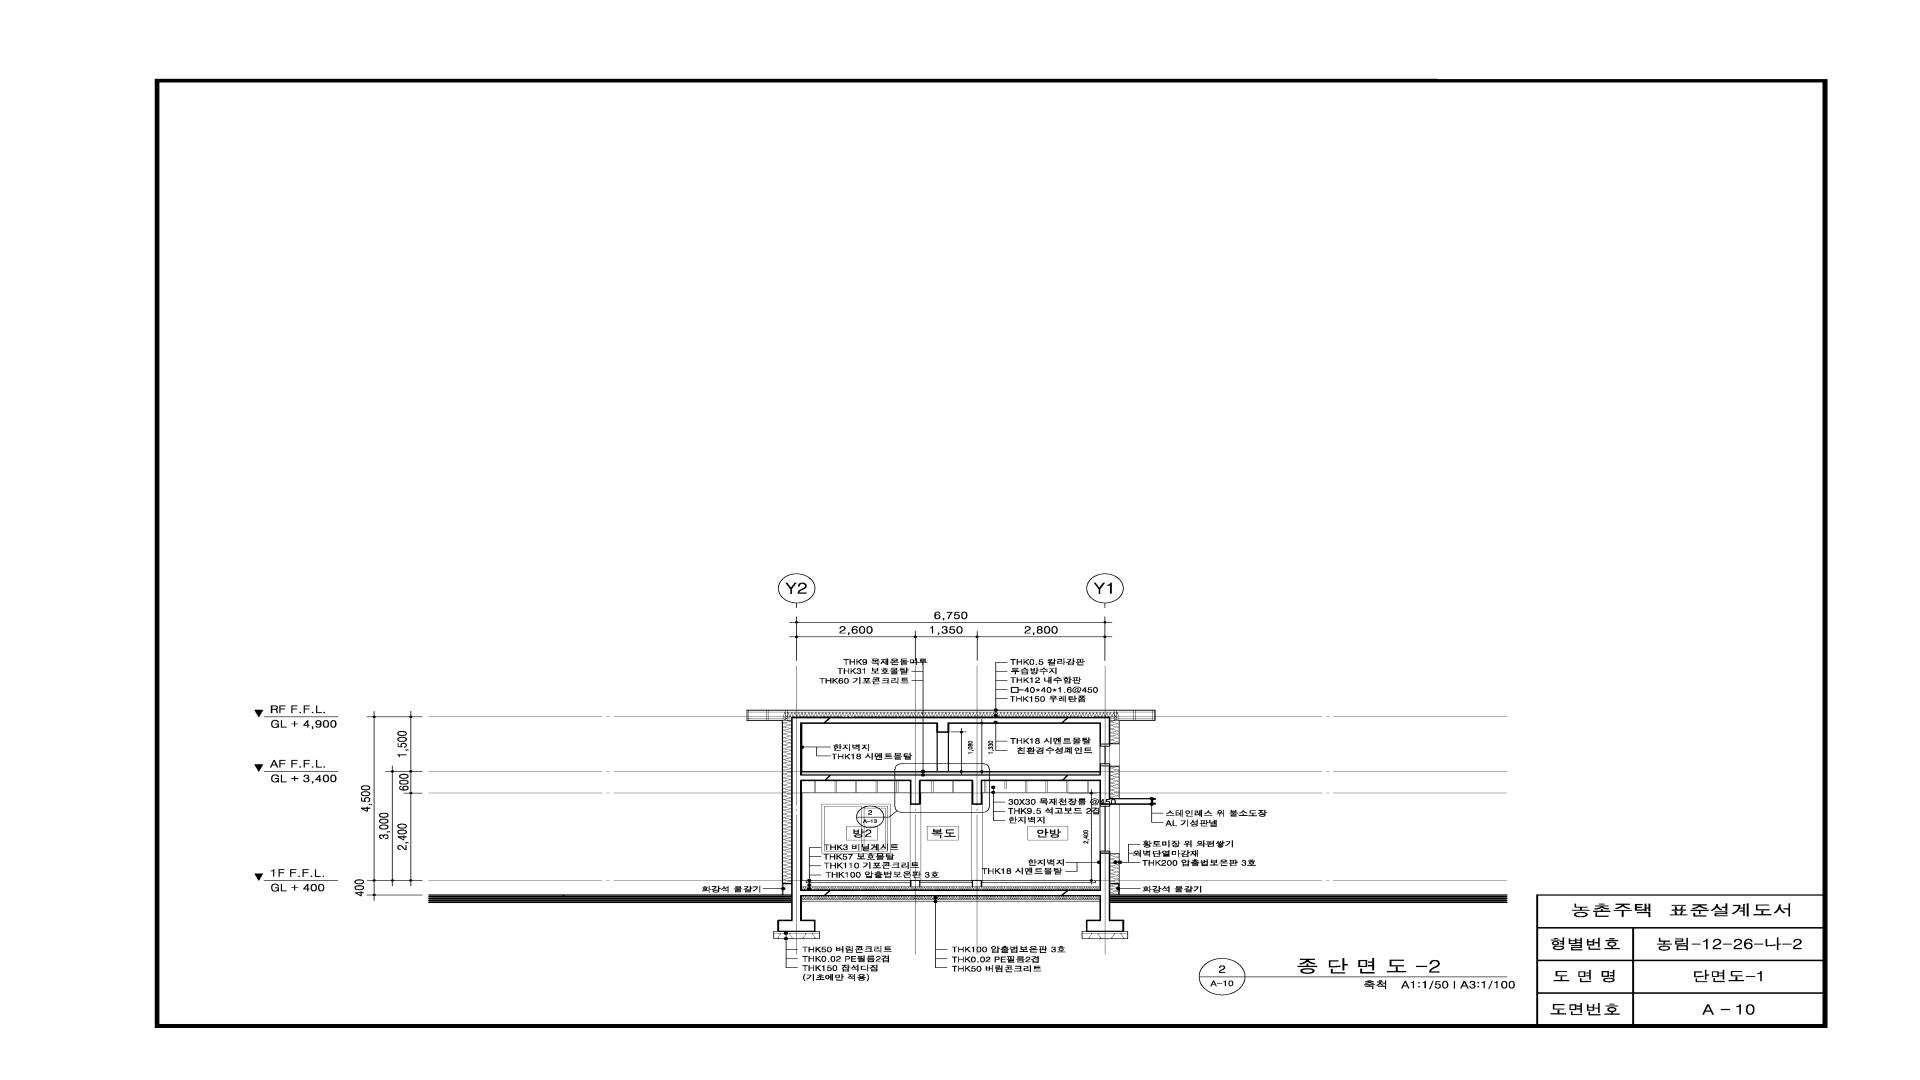background: (0, 0, 1920, 1080)
door: (972, 804, 982, 880), (910, 804, 920, 880), (936, 733, 949, 771)
wall: (777, 716, 1154, 931), (746, 709, 1155, 721), (802, 899, 1100, 902), (910, 880, 920, 886), (972, 880, 982, 886)
window: (822, 804, 891, 853), (1100, 804, 1120, 853), (1100, 744, 1120, 766)
